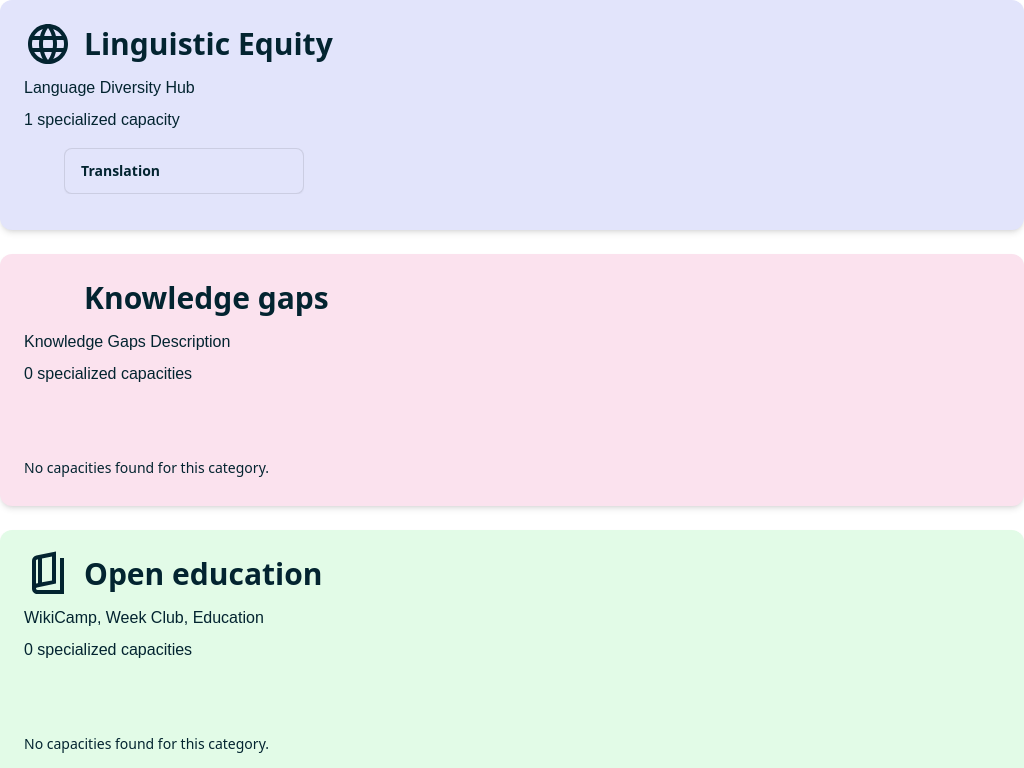
Test case: CapacityCategories › CapacityInfoPanel › shows "Added to Wanted" state when capacity is already in wanted list
Click the button "Translation" at point(184, 171), box [64,148,304,194]
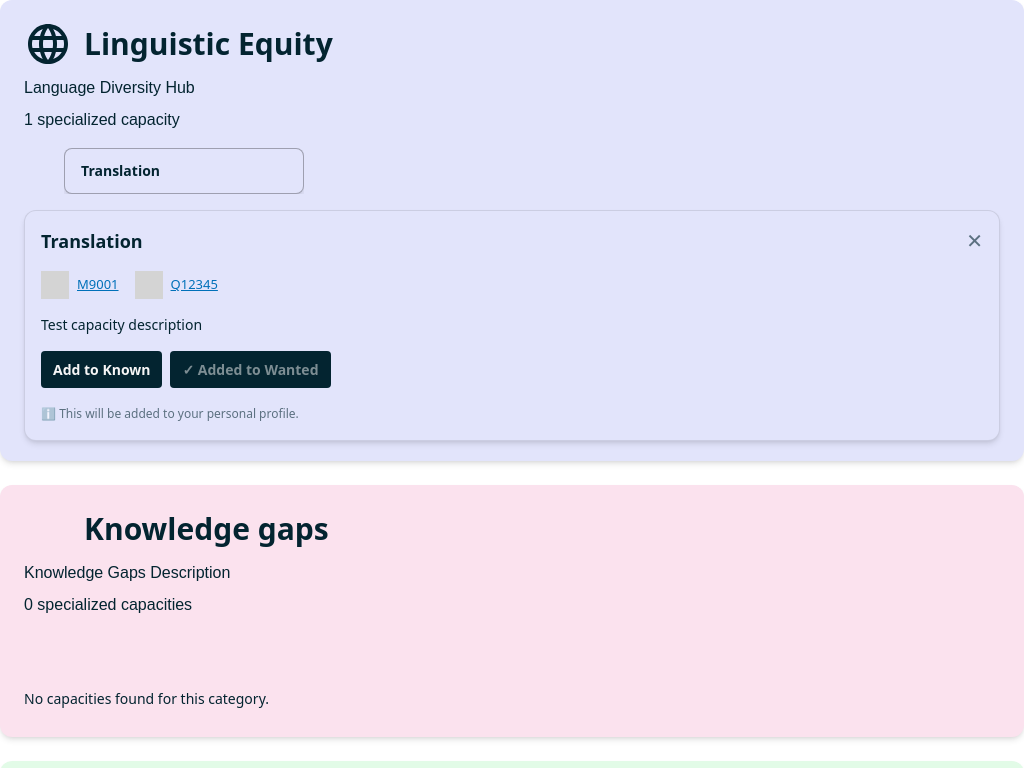
Now the text "✓ Added to Wanted" is shown, box [182,359,318,380]
